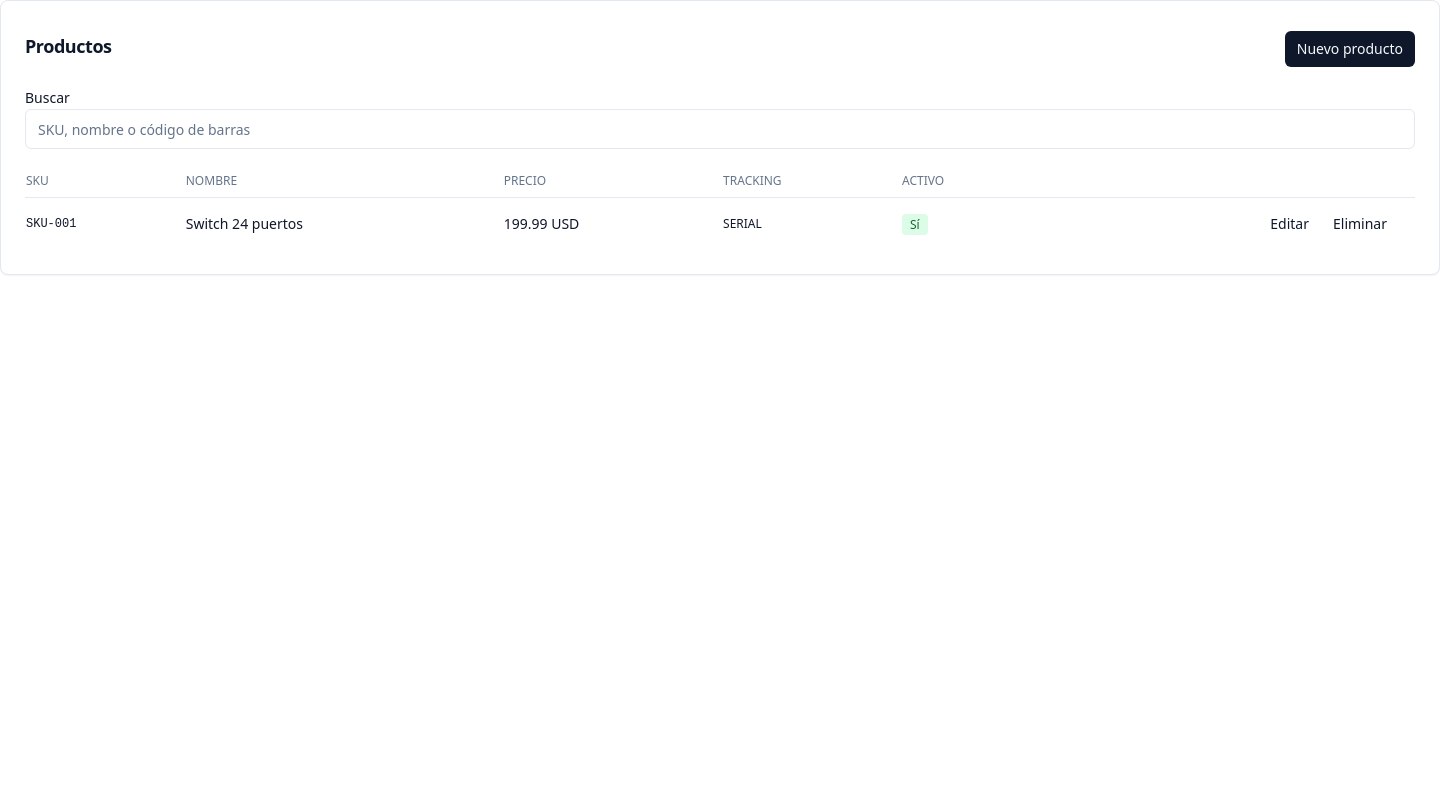
ProductsPage › PR-39: el input SKU en creación está deshabilitado y muestra "Se asignará automáticamente"
Click the button "Nuevo producto": click(1350, 49) [1285, 31, 1415, 67]
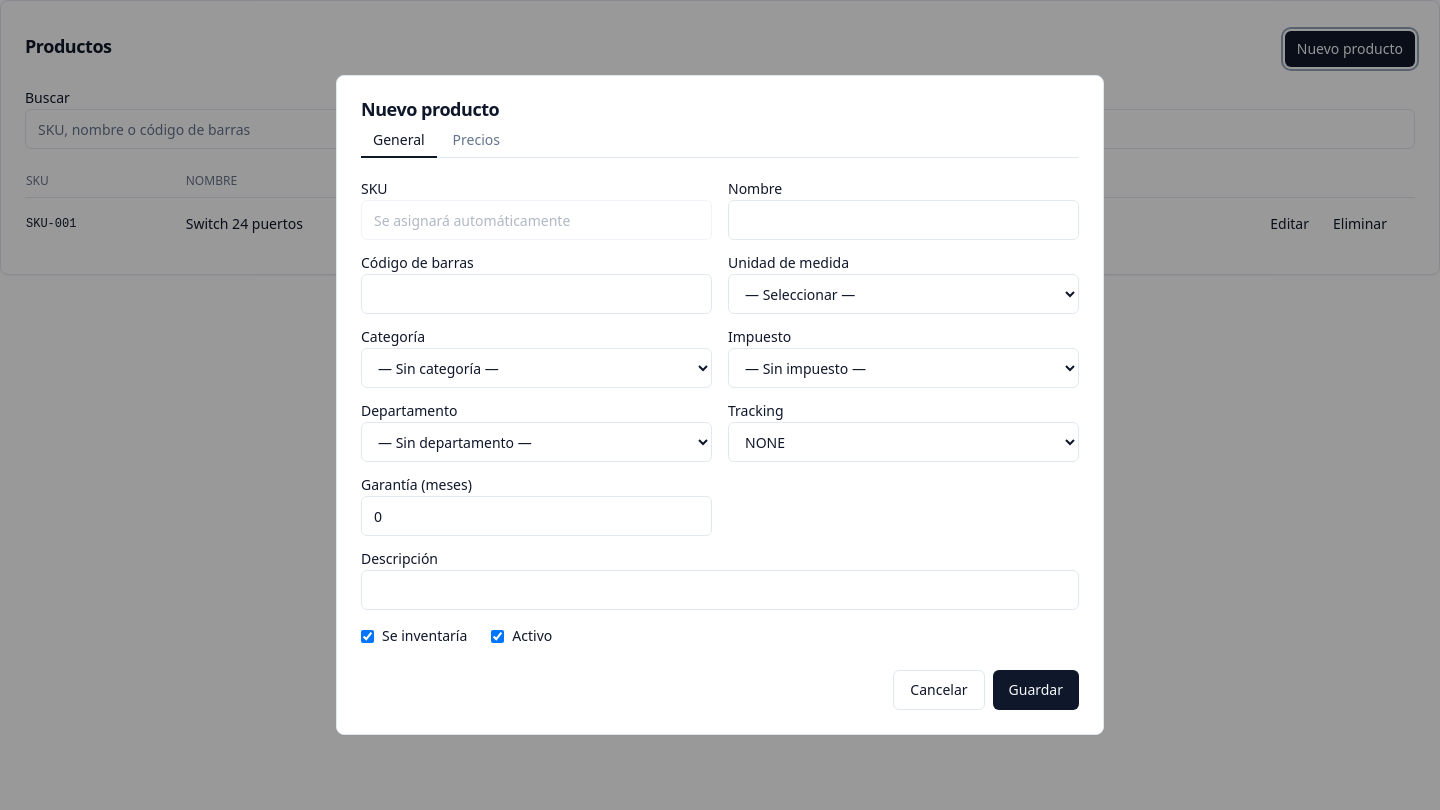
Check: the field labelled "SKU" is disabled, box [361, 200, 712, 240]
Check: the field labelled "SKU" is empty, box [361, 200, 712, 240]
